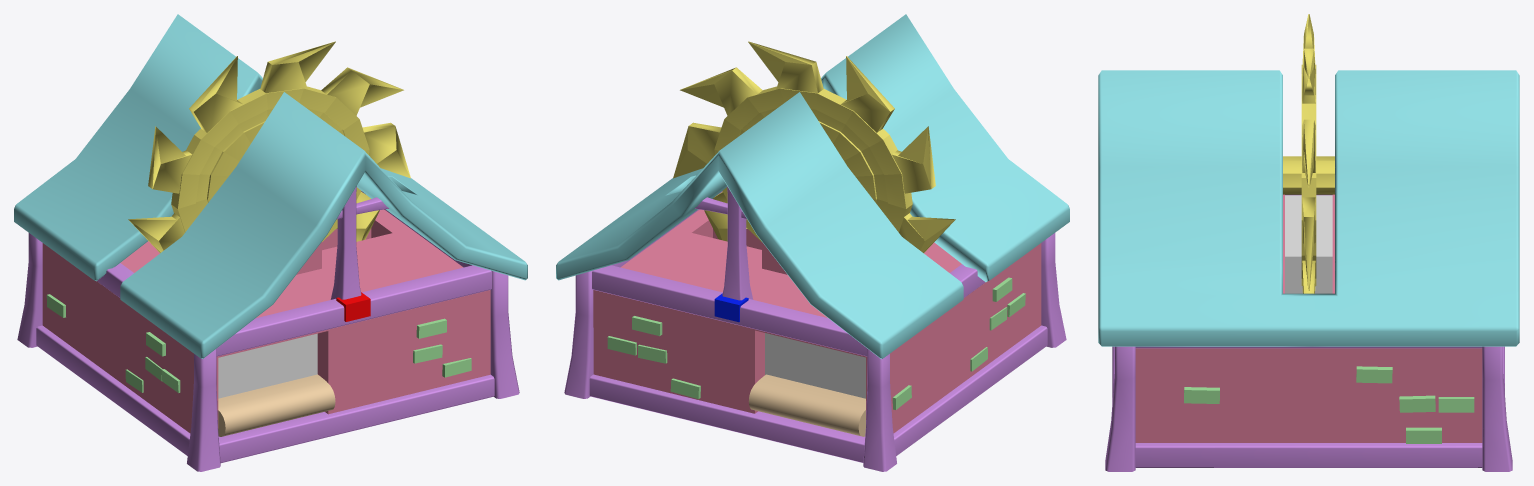
The model's file is TartakLV1.fbx.
The picture shows the model from 3 angles, left to right: view 1: azimuth 30°, elevation 25°; view 2: azimuth 150°, elevation 25°; view 3: azimuth 270°, elevation 25°; orthographic projection. The views are drawn at different scales.
Visible parts, largest first — view 1: Cylinder.020, Cylinder.021; view 2: Cylinder.020, Cylinder.021; view 3: Cylinder.020, Cylinder.021.
Boxes of the visible parts, x1,y1,x2,y2 form: Cylinder.020: (14,14,527,471); Cylinder.021: (128,41,410,253); Cylinder.020: (556,14,1069,471); Cylinder.021: (673,41,955,253); Cylinder.020: (1098,70,1519,471); Cylinder.021: (1301,14,1316,293).
Size of the model in its own units: 199 by 185 by 199.
